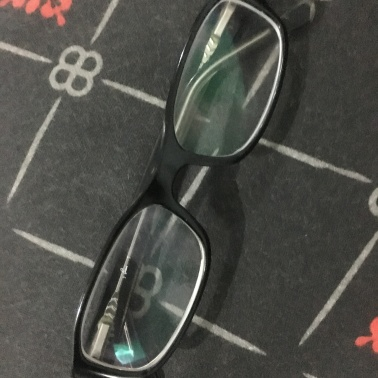glasses: (121, 6, 265, 368)
